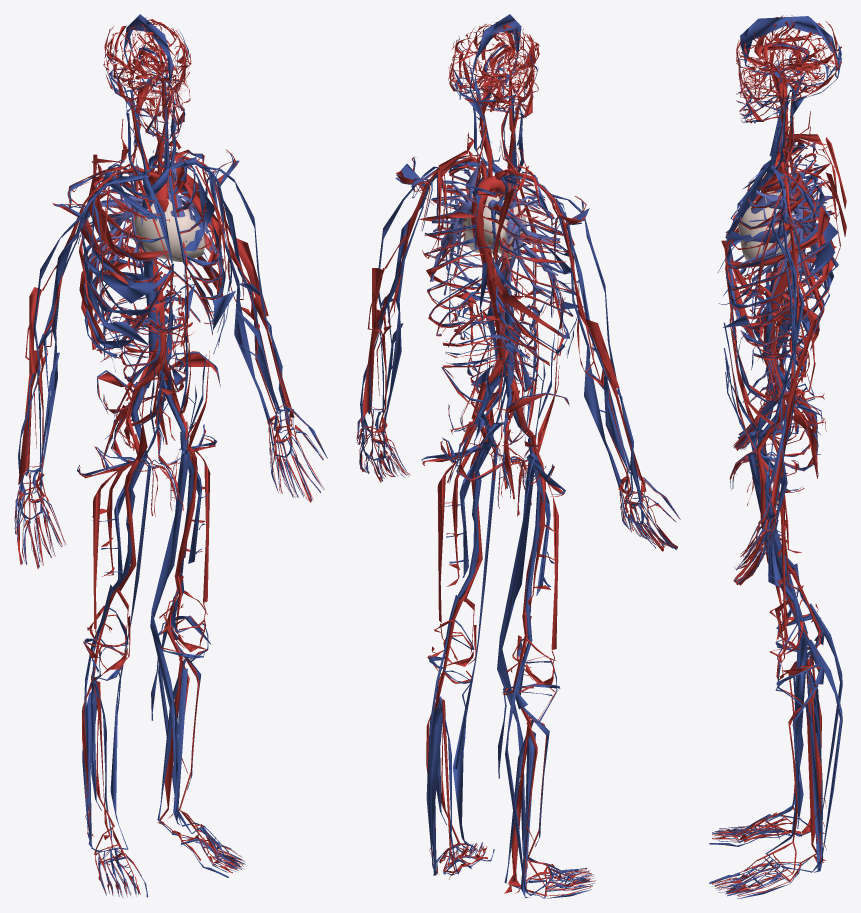
File: adult_male.cardiovascular.LOD4.glb
3 views of the same model, side by side, from view 1: azimuth 30°, elevation 25°; view 2: azimuth 150°, elevation 25°; view 3: azimuth 270°, elevation 25° (orthographic). The views are drawn at different scales.
Parts seen in each view (by area): view 1: ADULT.MALE.CARDIOVASCULAR.RIGHT_SUPERIOR_INTERCOSTAL_VEIN, ADULT.MALE.CARDIOVASCULAR.POSTERIOR_INTERCOSTAL_ARTERIES.R, ADULT.MALE.CARDIOVASCULAR.GREAT_SAPHENOUS_VEIN.L, ADULT.MALE.CARDIOVASCULAR.PERICARDIUM, ADULT.MALE.CARDIOVASCULAR.LEFT_SUPERIOR_INTERCOSTAL_VEIN, ADULT.MALE.CARDIOVASCULAR.POSTERIOR_INTERCOSTAL_ARTERIES.L, ADULT.MALE.CARDIOVASCULAR.DESCENDING_BRANCH_OF_LATERAL_CIRCU (×2), ADULT.MALE.CARDIOVASCULAR.GREAT_SAPHENOUS_VEIN.R, ADULT.MALE.CARDIOVASCULAR.BASILIC_VEIN.L, ADULT.MALE.CARDIOVASCULAR.LATERAL_THORACIC_VEIN.R, ADULT.MALE.CARDIOVASCULAR.RADIAL_ARTERY.R, ADULT.MALE.CARDIOVASCULAR.SUPERIOR_SAGITTAL_SINUS (+12 smaller); view 2: ADULT.MALE.CARDIOVASCULAR.GREAT_SAPHENOUS_VEIN.R, ADULT.MALE.CARDIOVASCULAR.POSTERIOR_INTERCOSTAL_ARTERIES.R, ADULT.MALE.CARDIOVASCULAR.RIGHT_SUPERIOR_INTERCOSTAL_VEIN, ADULT.MALE.CARDIOVASCULAR.GREAT_SAPHENOUS_VEIN.L, ADULT.MALE.CARDIOVASCULAR.POSTERIOR_INTERCOSTAL_ARTERIES.L, ADULT.MALE.CARDIOVASCULAR.DESCENDING_BRANCH_OF_LATERAL_CIRCU (×2), ADULT.MALE.CARDIOVASCULAR.LEFT_SUPERIOR_INTERCOSTAL_VEIN, ADULT.MALE.CARDIOVASCULAR.BASILIC_VEIN.R, ADULT.MALE.CARDIOVASCULAR.PERICARDIUM, ADULT.MALE.CARDIOVASCULAR.FIBULAR_VEINS.L, ADULT.MALE.CARDIOVASCULAR.FEMORAL_VEIN.L, ADULT.MALE.CARDIOVASCULAR.CEPHALIC_VEIN.R (+12 smaller); view 3: ADULT.MALE.CARDIOVASCULAR.LEFT_SUPERIOR_INTERCOSTAL_VEIN, ADULT.MALE.CARDIOVASCULAR.POSTERIOR_INTERCOSTAL_ARTERIES.L, ADULT.MALE.CARDIOVASCULAR.GREAT_SAPHENOUS_VEIN.L, ADULT.MALE.CARDIOVASCULAR.SUPERIOR_SAGITTAL_SINUS, ADULT.MALE.CARDIOVASCULAR.PERICARDIUM, ADULT.MALE.CARDIOVASCULAR.CEPHALIC_VEIN.L, ADULT.MALE.CARDIOVASCULAR.GREAT_SAPHENOUS_VEIN.R, ADULT.MALE.CARDIOVASCULAR.FIBULAR_VEINS.L, ADULT.MALE.CARDIOVASCULAR.SMALL_SAPHENOUS_VEIN.L, ADULT.MALE.CARDIOVASCULAR.SMALL_SAPHENOUS_VEIN.R, ADULT.MALE.CARDIOVASCULAR.RIGHT_SUPERIOR_INTERCOSTAL_VEIN, ADULT.MALE.CARDIOVASCULAR.POSTERIOR_TIBIAL_ARTERY.L (+32 smaller).
Part boxes in pixels (box(x1,y1,x2,y2)): ADULT.MALE.CARDIOVASCULAR.RIGHT_SUPERIOR_INTERCOSTAL_VEIN: box(81, 159, 172, 358); ADULT.MALE.CARDIOVASCULAR.POSTERIOR_INTERCOSTAL_ARTERIES.R: box(79, 167, 170, 358); ADULT.MALE.CARDIOVASCULAR.GREAT_SAPHENOUS_VEIN.L: box(150, 449, 191, 833); ADULT.MALE.CARDIOVASCULAR.PERICARDIUM: box(131, 199, 205, 261); ADULT.MALE.CARDIOVASCULAR.LEFT_SUPERIOR_INTERCOSTAL_VEIN: box(140, 150, 225, 333); ADULT.MALE.CARDIOVASCULAR.POSTERIOR_INTERCOSTAL_ARTERIES.L: box(150, 162, 223, 334); ADULT.MALE.CARDIOVASCULAR.DESCENDING_BRANCH_OF_LATERAL_CIRCU (×2): box(93, 449, 210, 628); ADULT.MALE.CARDIOVASCULAR.GREAT_SAPHENOUS_VEIN.R: box(110, 459, 151, 848); ADULT.MALE.CARDIOVASCULAR.BASILIC_VEIN.L: box(220, 200, 271, 423); ADULT.MALE.CARDIOVASCULAR.LATERAL_THORACIC_VEIN.R: box(93, 198, 152, 373); ADULT.MALE.CARDIOVASCULAR.RADIAL_ARTERY.R: box(18, 350, 42, 484); ADULT.MALE.CARDIOVASCULAR.SUPERIOR_SAGITTAL_SINUS: box(123, 14, 173, 86); ADULT.MALE.CARDIOVASCULAR.GREAT_SAPHENOUS_VEIN.R: box(497, 452, 537, 861); ADULT.MALE.CARDIOVASCULAR.POSTERIOR_INTERCOSTAL_ARTERIES.R: box(476, 192, 574, 365); ADULT.MALE.CARDIOVASCULAR.RIGHT_SUPERIOR_INTERCOSTAL_VEIN: box(491, 175, 575, 360); ADULT.MALE.CARDIOVASCULAR.GREAT_SAPHENOUS_VEIN.L: box(452, 440, 497, 847); ADULT.MALE.CARDIOVASCULAR.POSTERIOR_INTERCOSTAL_ARTERIES.L: box(418, 184, 500, 336); ADULT.MALE.CARDIOVASCULAR.DESCENDING_BRANCH_OF_LATERAL_CIRCU (×2): box(437, 458, 558, 649); ADULT.MALE.CARDIOVASCULAR.LEFT_SUPERIOR_INTERCOSTAL_VEIN: box(424, 161, 500, 335); ADULT.MALE.CARDIOVASCULAR.BASILIC_VEIN.R: box(569, 243, 621, 487); ADULT.MALE.CARDIOVASCULAR.PERICARDIUM: box(463, 195, 526, 258); ADULT.MALE.CARDIOVASCULAR.FIBULAR_VEINS.L: box(431, 707, 445, 875); ADULT.MALE.CARDIOVASCULAR.FEMORAL_VEIN.L: box(457, 426, 494, 597); ADULT.MALE.CARDIOVASCULAR.CEPHALIC_VEIN.R: box(551, 194, 641, 500); ADULT.MALE.CARDIOVASCULAR.LEFT_SUPERIOR_INTERCOSTAL_VEIN: box(726, 164, 838, 358); ADULT.MALE.CARDIOVASCULAR.POSTERIOR_INTERCOSTAL_ARTERIES.L: box(726, 187, 834, 360); ADULT.MALE.CARDIOVASCULAR.GREAT_SAPHENOUS_VEIN.L: box(747, 452, 819, 853); ADULT.MALE.CARDIOVASCULAR.SUPERIOR_SAGITTAL_SINUS: box(740, 16, 838, 77); ADULT.MALE.CARDIOVASCULAR.PERICARDIUM: box(738, 189, 799, 265); ADULT.MALE.CARDIOVASCULAR.CEPHALIC_VEIN.L: box(771, 197, 794, 519); ADULT.MALE.CARDIOVASCULAR.GREAT_SAPHENOUS_VEIN.R: box(748, 431, 818, 822); ADULT.MALE.CARDIOVASCULAR.FIBULAR_VEINS.L: box(808, 711, 822, 872); ADULT.MALE.CARDIOVASCULAR.SMALL_SAPHENOUS_VEIN.L: box(801, 639, 842, 872); ADULT.MALE.CARDIOVASCULAR.SMALL_SAPHENOUS_VEIN.R: box(800, 603, 842, 824); ADULT.MALE.CARDIOVASCULAR.RIGHT_SUPERIOR_INTERCOSTAL_VEIN: box(725, 144, 832, 309); ADULT.MALE.CARDIOVASCULAR.POSTERIOR_TIBIAL_ARTERY.L: box(801, 702, 816, 862).
Size of the model in its own units: 0.6635 by 1.7 by 0.2496.
